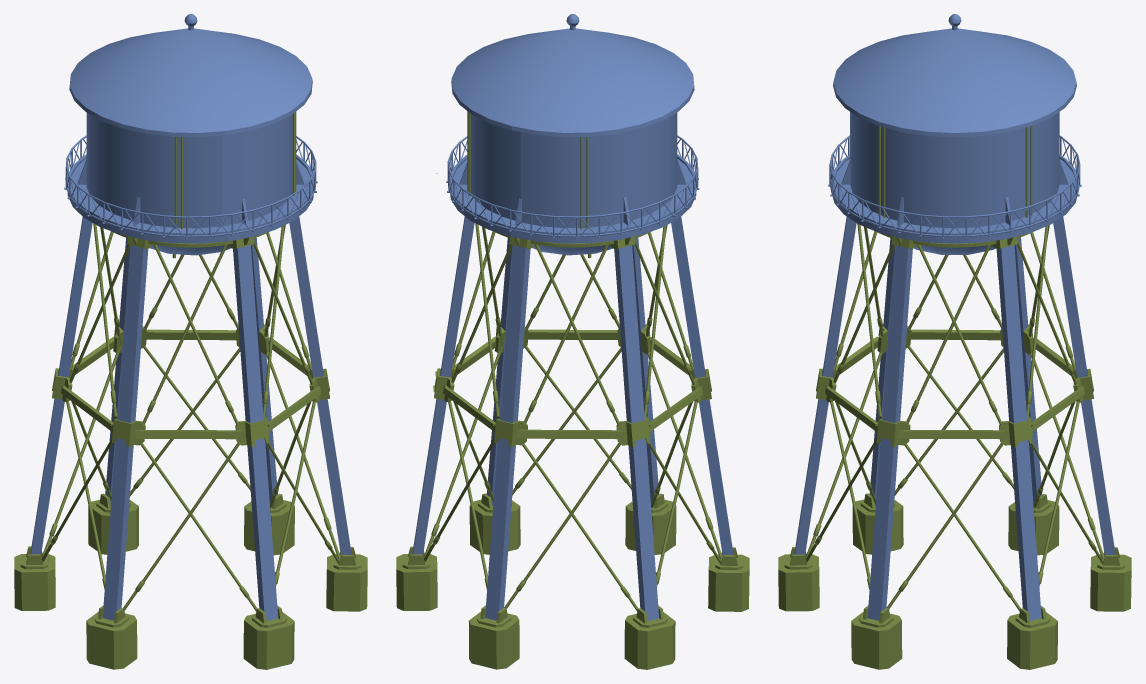
Rendered from Target_Tower Tank.fbx.
3 views of the same model, side by side, from view 1: azimuth 30°, elevation 25°; view 2: azimuth 150°, elevation 25°; view 3: azimuth 270°, elevation 25° (orthographic).
Parts seen in each view (by area): view 1: water_tower_02; view 2: water_tower_02; view 3: water_tower_02.
Boxes of the visible parts, <box> form: water_tower_02: <box>14,14,367,669</box>; water_tower_02: <box>396,14,749,669</box>; water_tower_02: <box>778,14,1131,669</box>.
Size of the model in its own units: 18.67 by 37.72 by 20.54.
